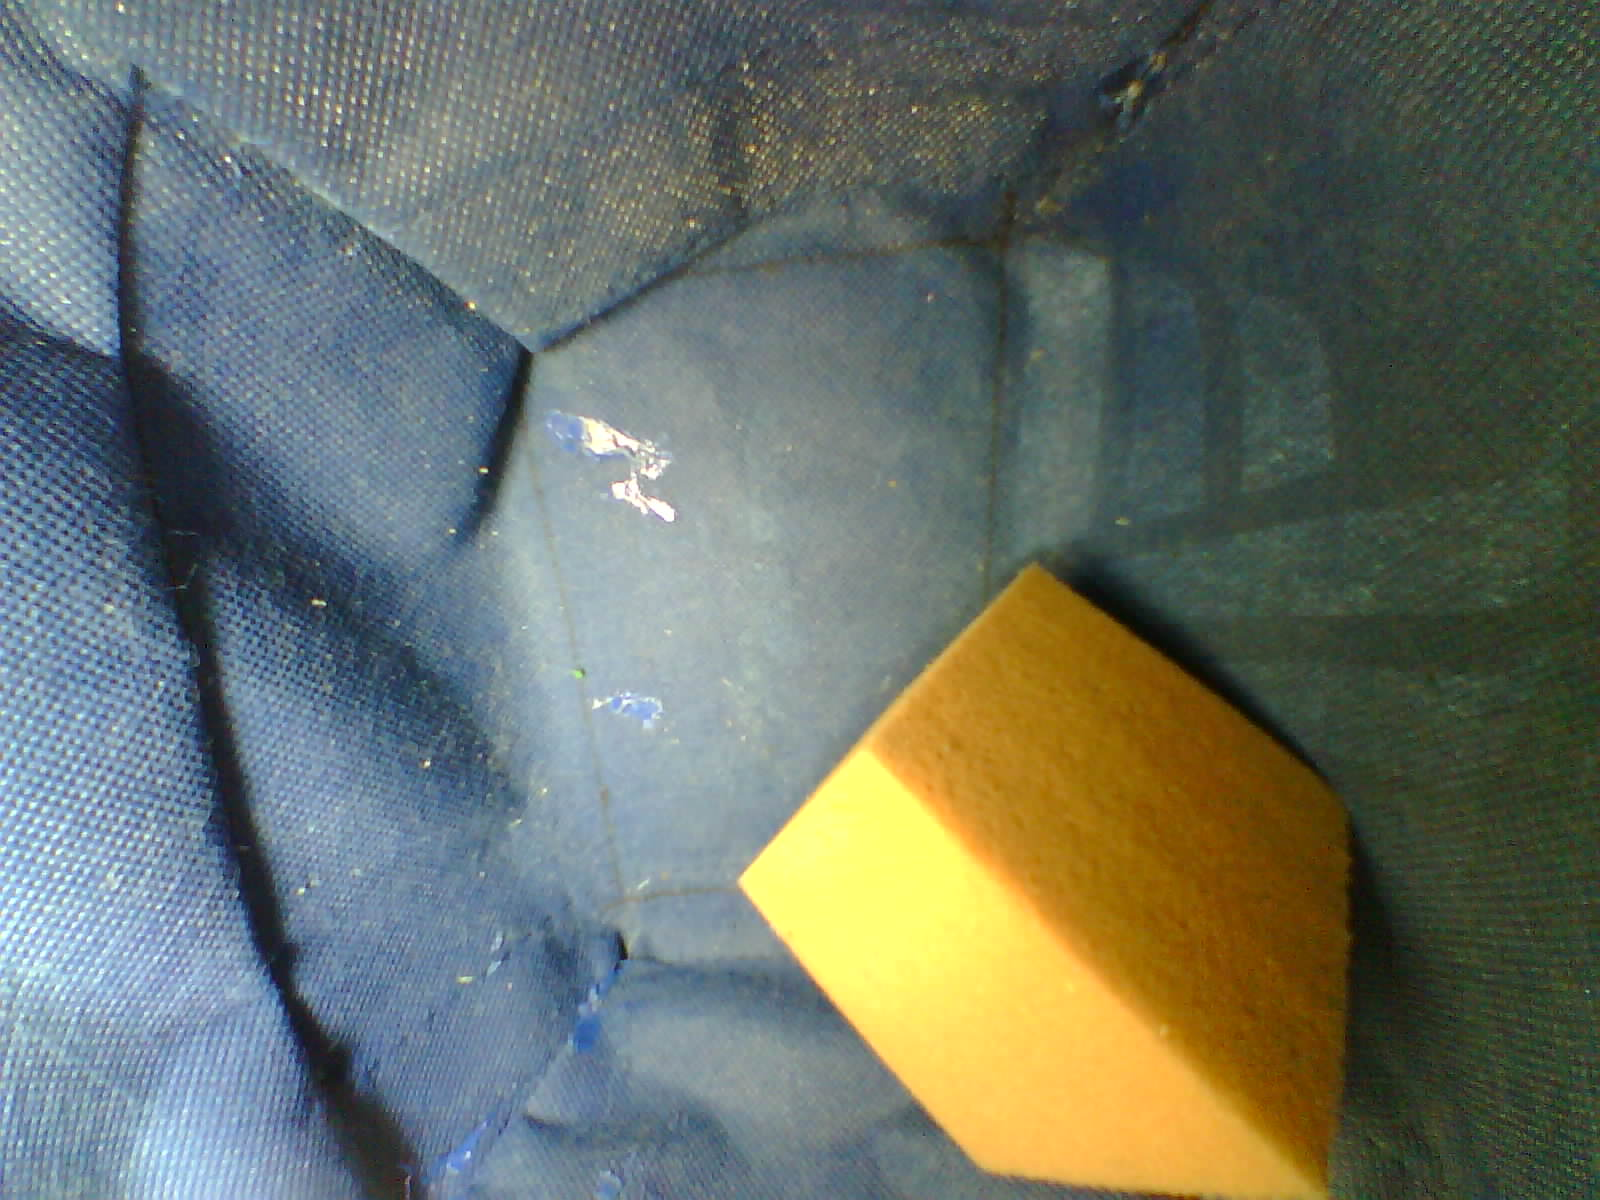cube-soft: (726, 552, 1378, 1200)
